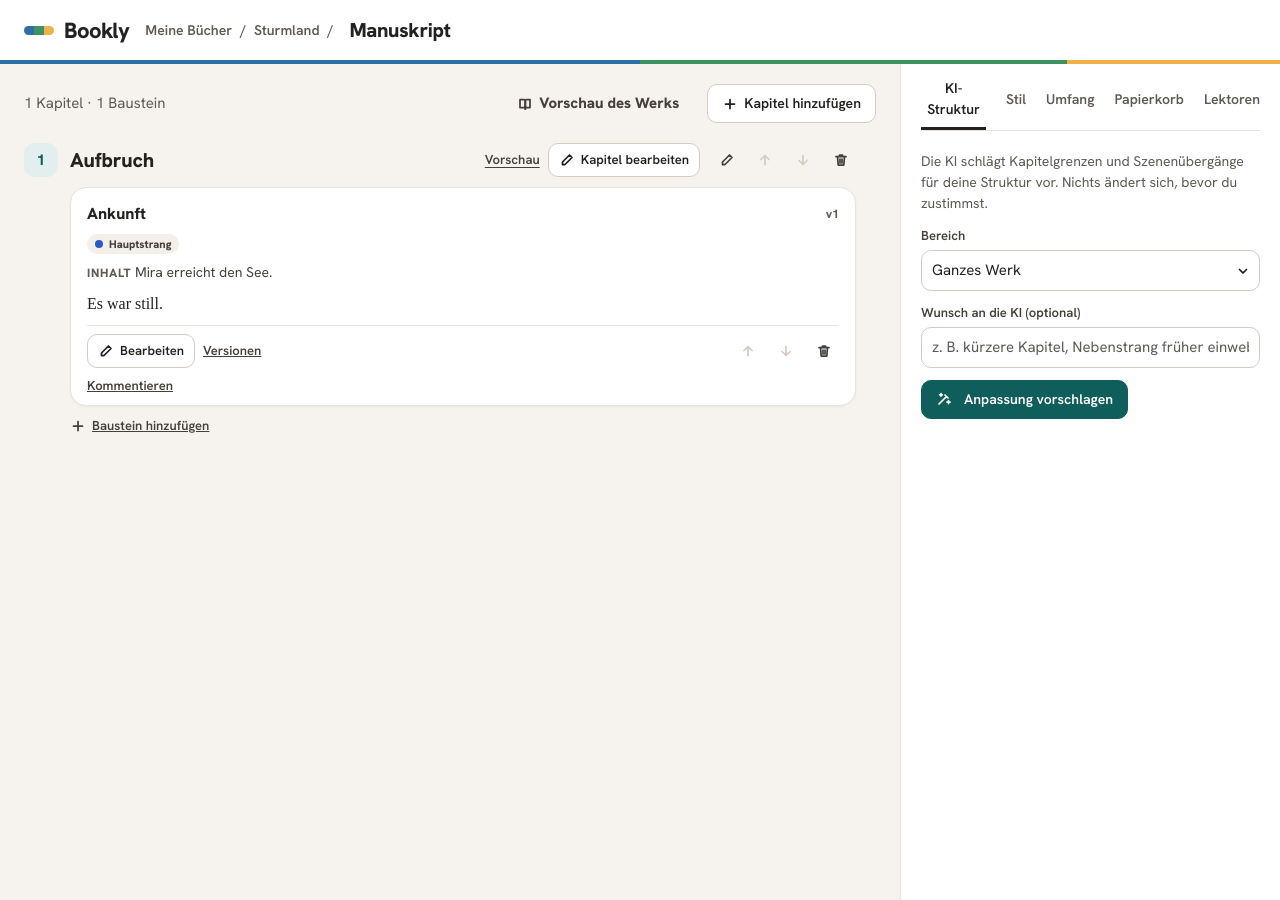
Test: ManuscriptPage › asks the AI to rework a single chapter
Select "Nur „Aufbruch“" in the dropdown labelled "Bereich" at (1090, 271), box [921,250,1260,291]
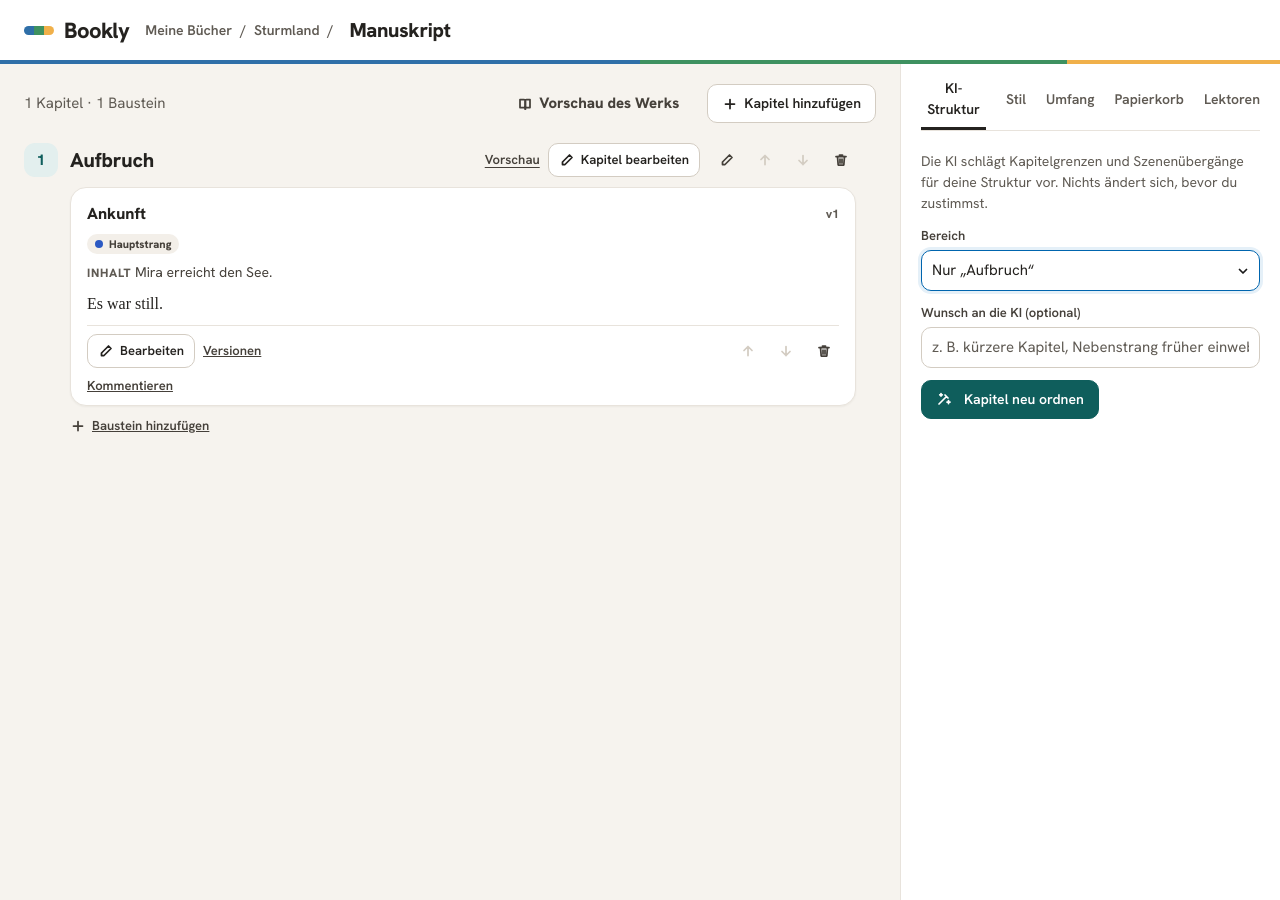
Click the button "Kapitel neu ordnen" at (1010, 399), box [921,380,1099,419]
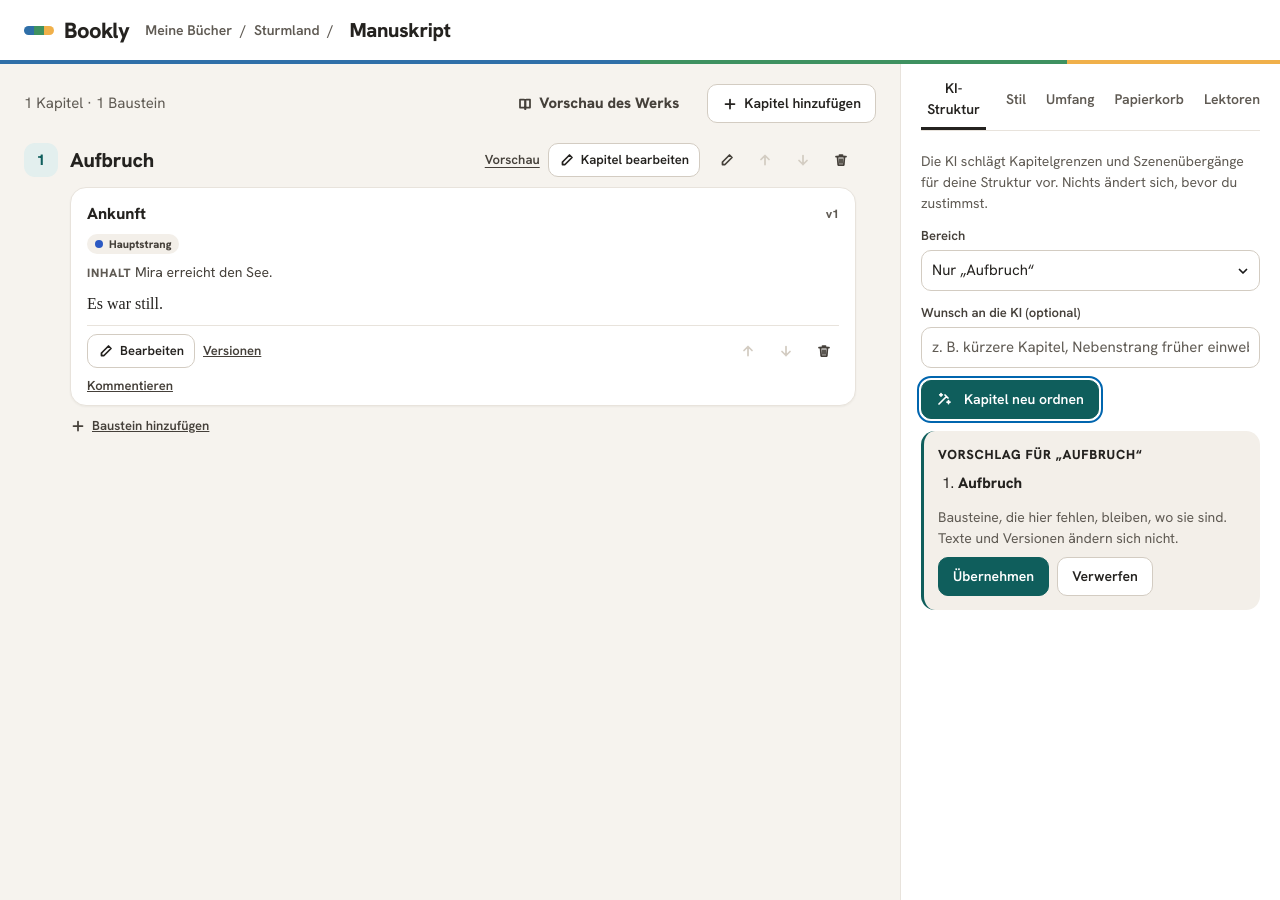
Check: the heading "Vorschlag für „Aufbruch“" is shown, box [938,446,1143,463]
